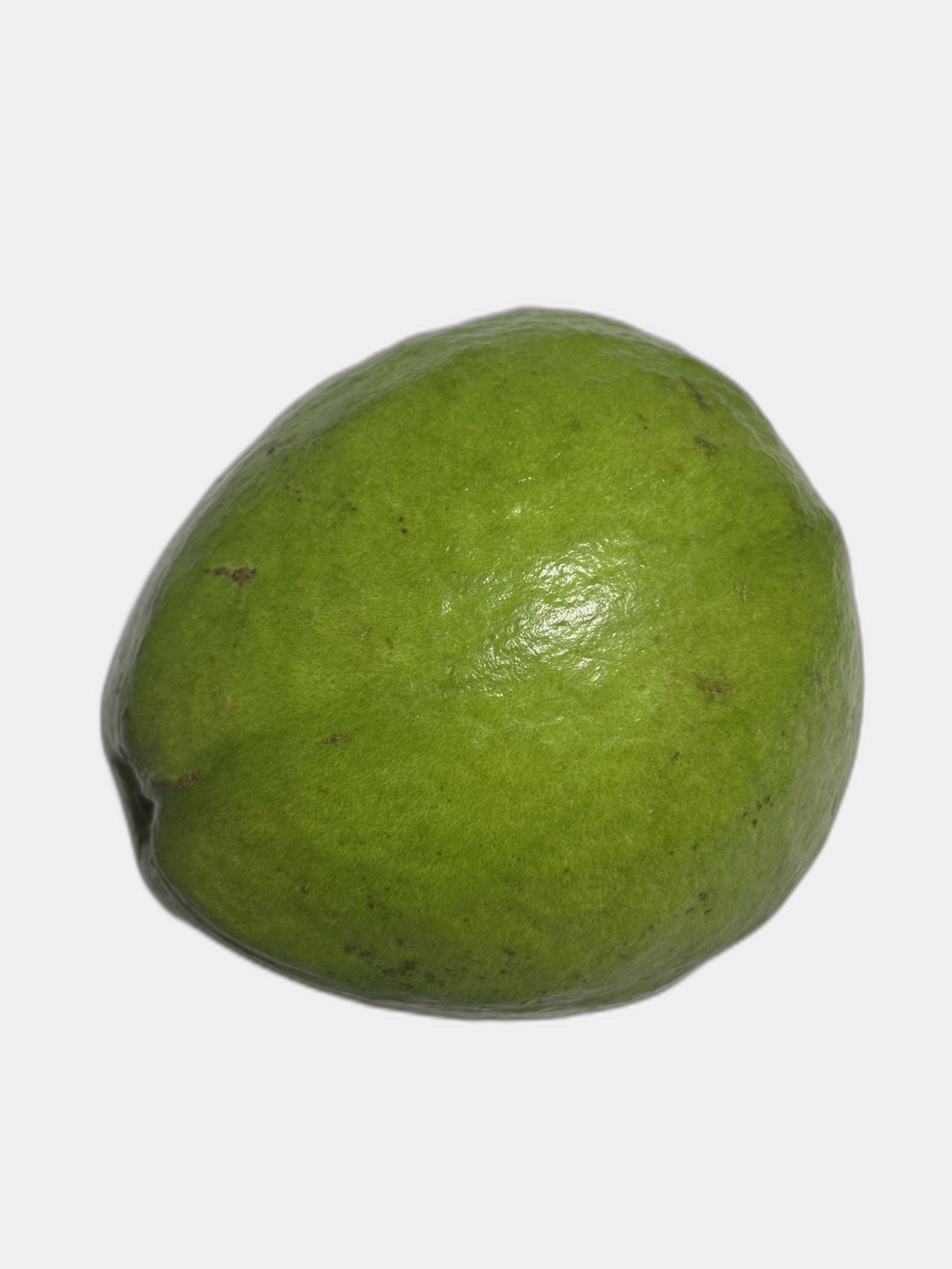guava: (248, 93, 840, 1216)
